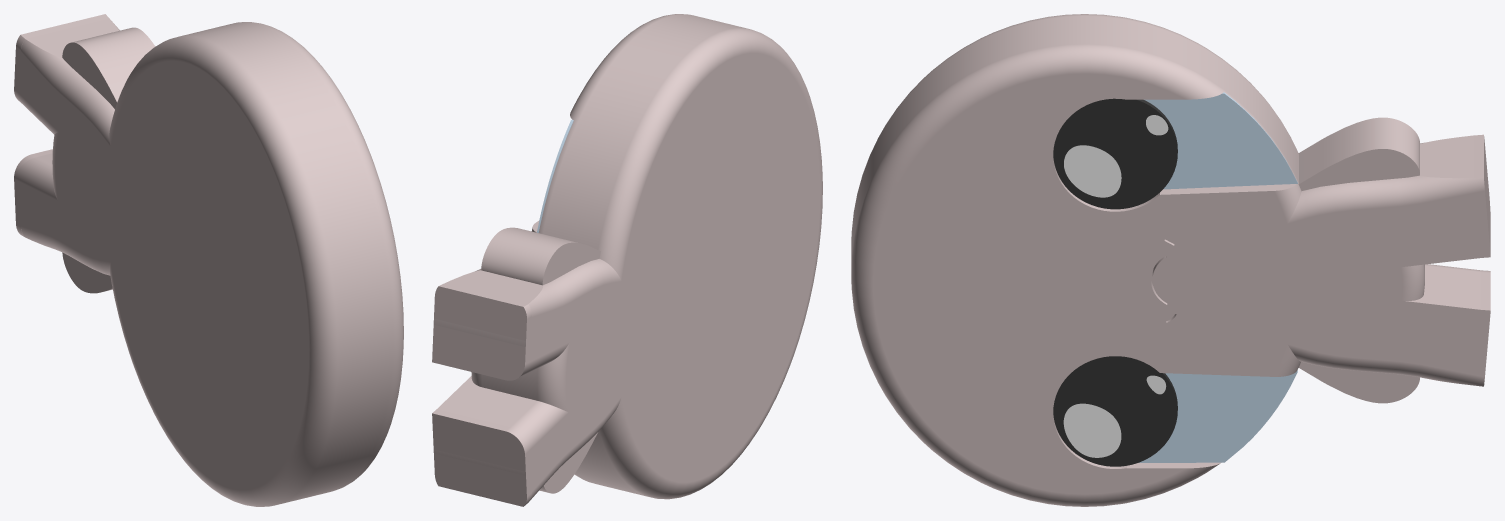
The model's file is Issac.gltf.
3 renders of one model, left to right at view 1: azimuth 30°, elevation 25°; view 2: azimuth 150°, elevation 25°; view 3: azimuth 270°, elevation 25°, orthographic. The views are drawn at different scales.
Parts seen in each view (by area): view 1: Part 7; view 2: Part 7; view 3: Part 7, Part 9, Part 8, Part 6, Part 1, Part 2, Part 4.
Part boxes in pixels (left/top/right/bottom): Part 7: left=14, top=14, right=403, bottom=506; Part 7: left=432, top=14, right=822, bottom=506; Part 7: left=851, top=14, right=1490, bottom=506; Part 9: left=1144, top=92, right=1297, bottom=189; Part 8: left=1138, top=370, right=1297, bottom=462; Part 6: left=1053, top=98, right=1177, bottom=209; Part 1: left=1053, top=356, right=1177, bottom=466; Part 2: left=1063, top=403, right=1121, bottom=457; Part 4: left=1064, top=145, right=1121, bottom=197.
Bounding box in the file's own units: 0.0127 × 0.0581 × 0.0732.
